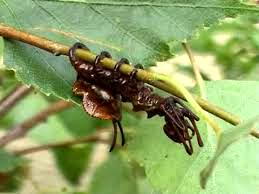Lobster Moth: (67, 37, 206, 159)
